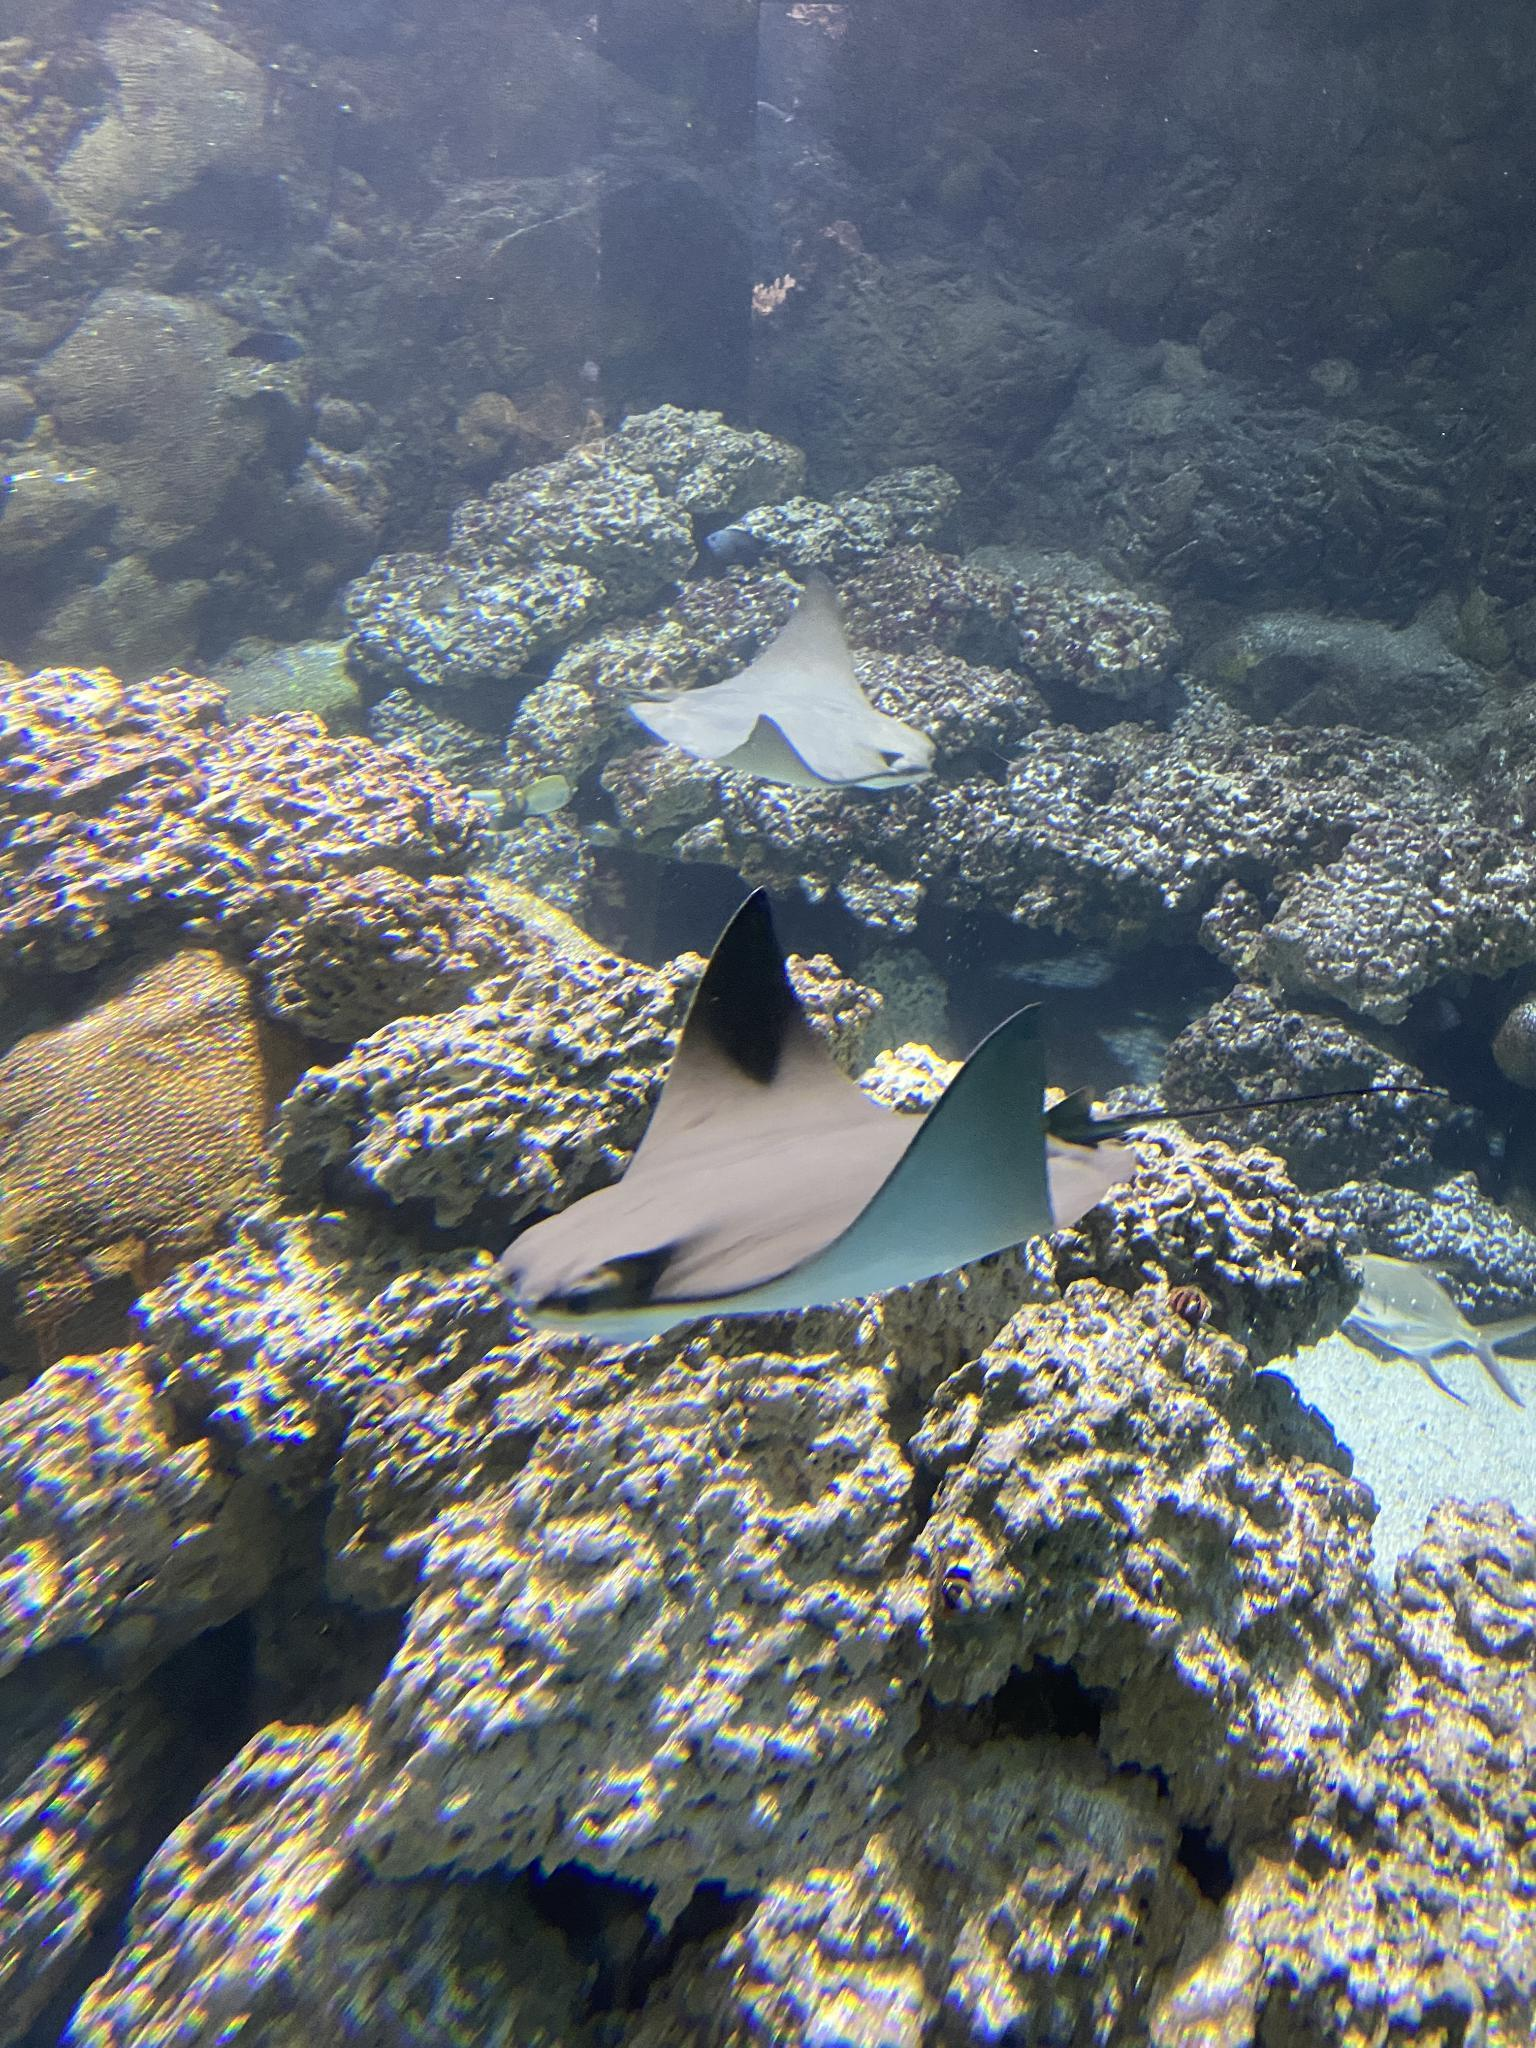fish: (1312, 1248, 1536, 1413)
stingray: (455, 871, 1137, 1350), (631, 556, 954, 813)
